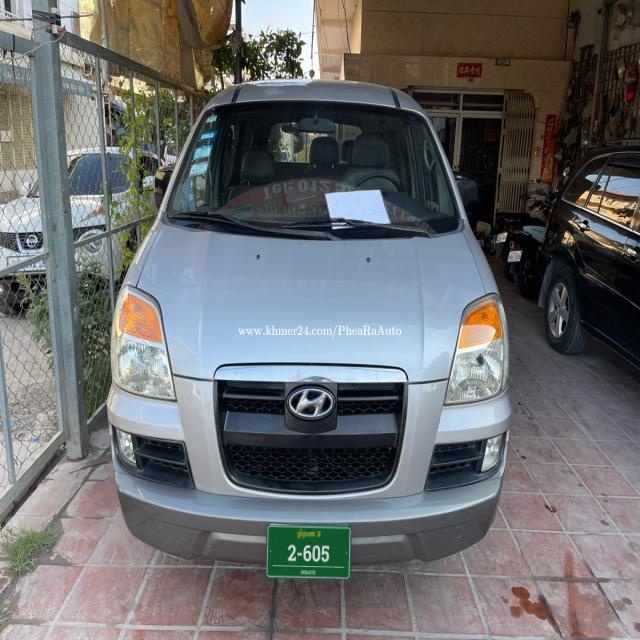Plate Number: (266, 525, 351, 579)
